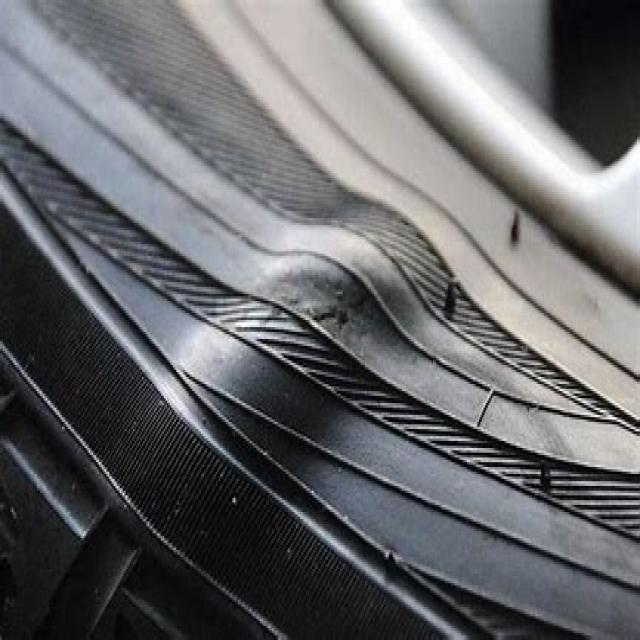Bulge: (163, 196, 437, 473)
